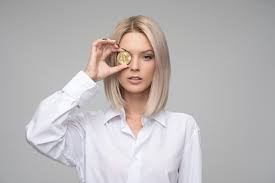white_female: (114, 35, 176, 107)
